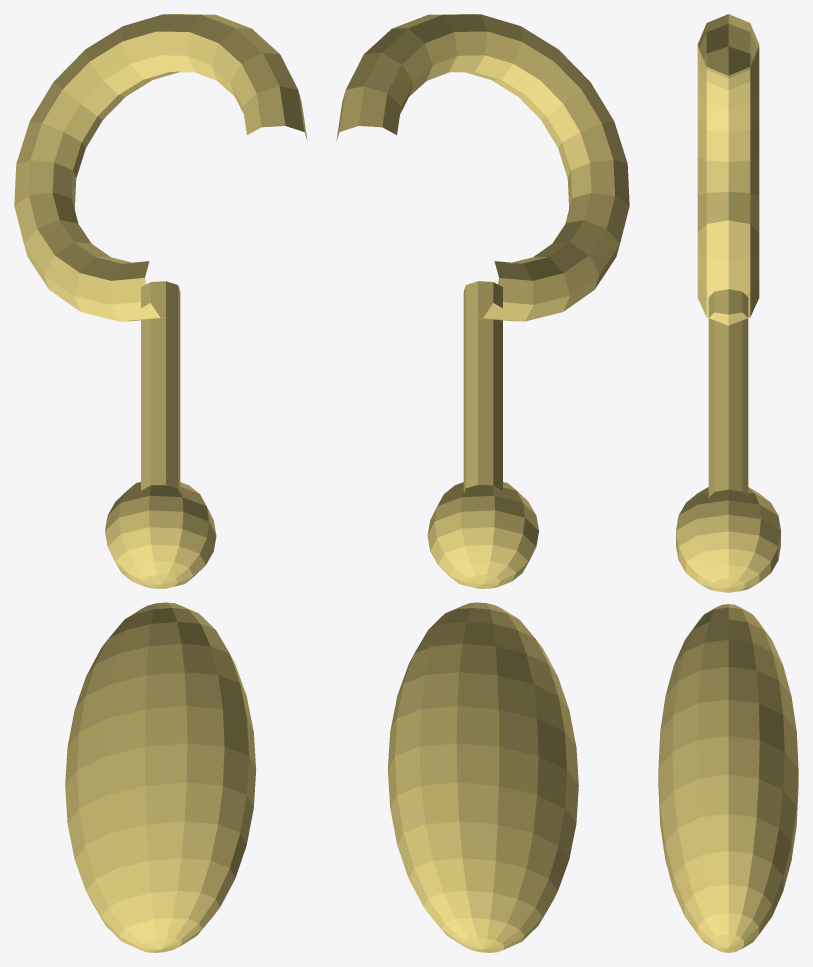
File: earring-dangling.glb
3 views of the same model, side by side, from view 1: azimuth 30°, elevation 25°; view 2: azimuth 150°, elevation 25°; view 3: azimuth 270°, elevation 25° (orthographic).
Parts seen in each view (by area): view 1: earring-dangling; view 2: earring-dangling; view 3: earring-dangling.
Part boxes in pixels (box(x1,y1,x2,y2)): earring-dangling: box(14, 14, 307, 952); earring-dangling: box(336, 14, 629, 952); earring-dangling: box(658, 14, 798, 952).
Bounding box in the file's own units: 0.0591 × 0.1833 × 0.0253.
